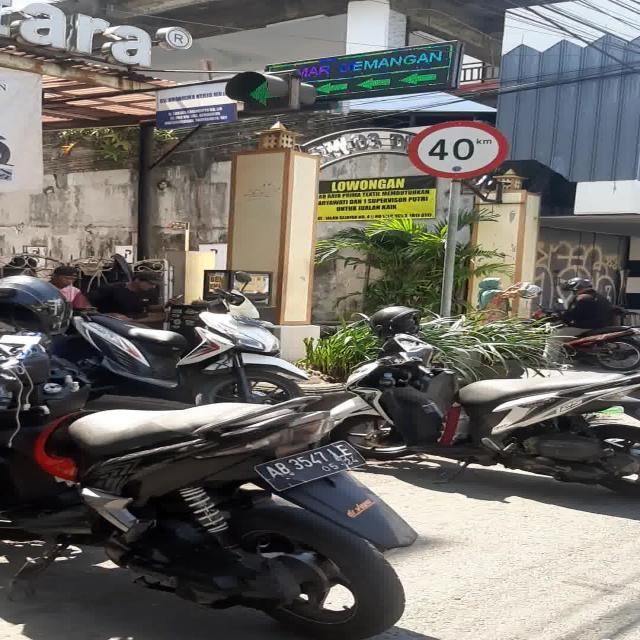Kecepatan Maks. 40 km: (408, 120, 510, 178)
